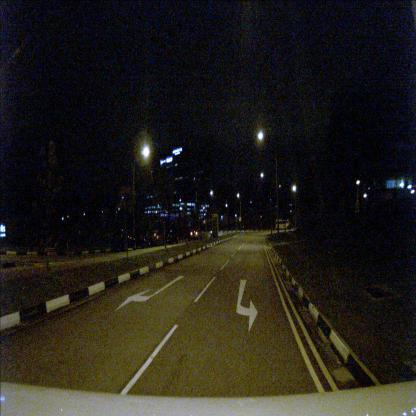vehicle-car: (112, 228, 138, 251), (134, 228, 154, 249), (149, 230, 165, 246), (164, 228, 178, 245), (275, 219, 292, 230), (190, 225, 201, 240)
